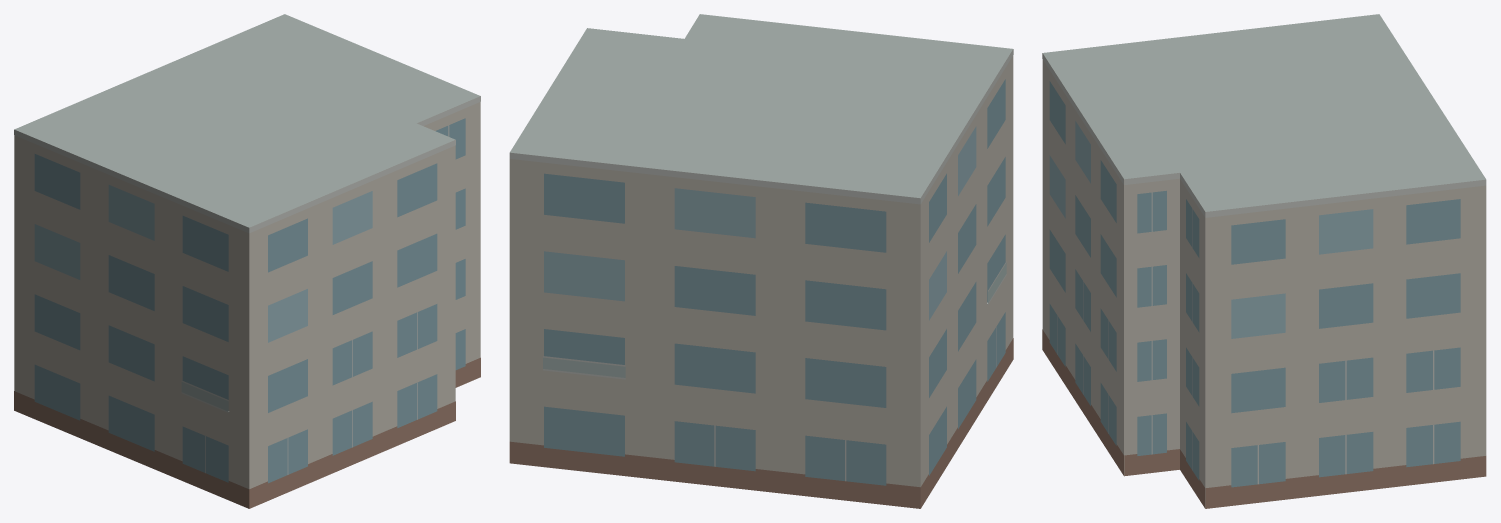
The model's file is residential-d22d2f6c-307b-4139-8058-d6bc3c6e631c.glb.
The picture shows the model from 3 angles, left to right: view 1: azimuth 30°, elevation 25°; view 2: azimuth 150°, elevation 25°; view 3: azimuth 270°, elevation 25°; orthographic projection. The views are drawn at different scales.
Visible parts, largest first — view 1: residential-d22d2f6c-307b-4139-8058-d6bc3c6e631c.tmp; view 2: residential-d22d2f6c-307b-4139-8058-d6bc3c6e631c.tmp; view 3: residential-d22d2f6c-307b-4139-8058-d6bc3c6e631c.tmp.
Boxes of the visible parts, bbox=[...] form: residential-d22d2f6c-307b-4139-8058-d6bc3c6e631c.tmp: bbox=[14, 14, 480, 508]; residential-d22d2f6c-307b-4139-8058-d6bc3c6e631c.tmp: bbox=[509, 14, 1013, 508]; residential-d22d2f6c-307b-4139-8058-d6bc3c6e631c.tmp: bbox=[1042, 14, 1486, 508].
Bounding box in the file's own units: 17.46 × 12.2 × 16.54.
